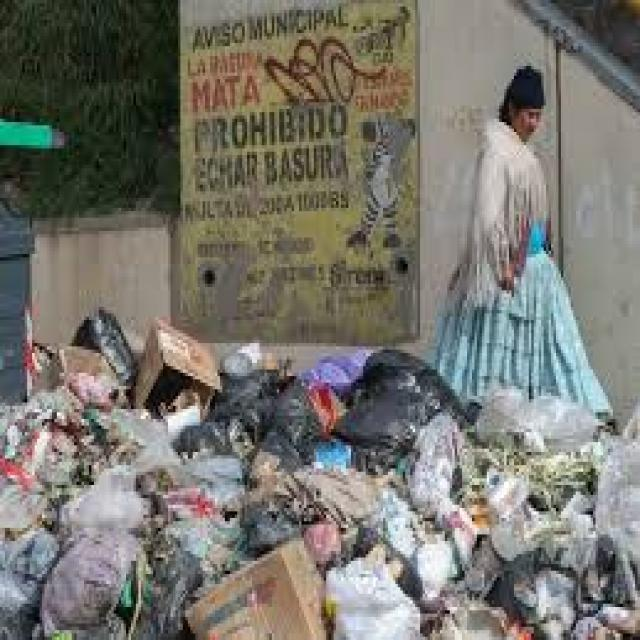garbage: (6, 307, 640, 640)
